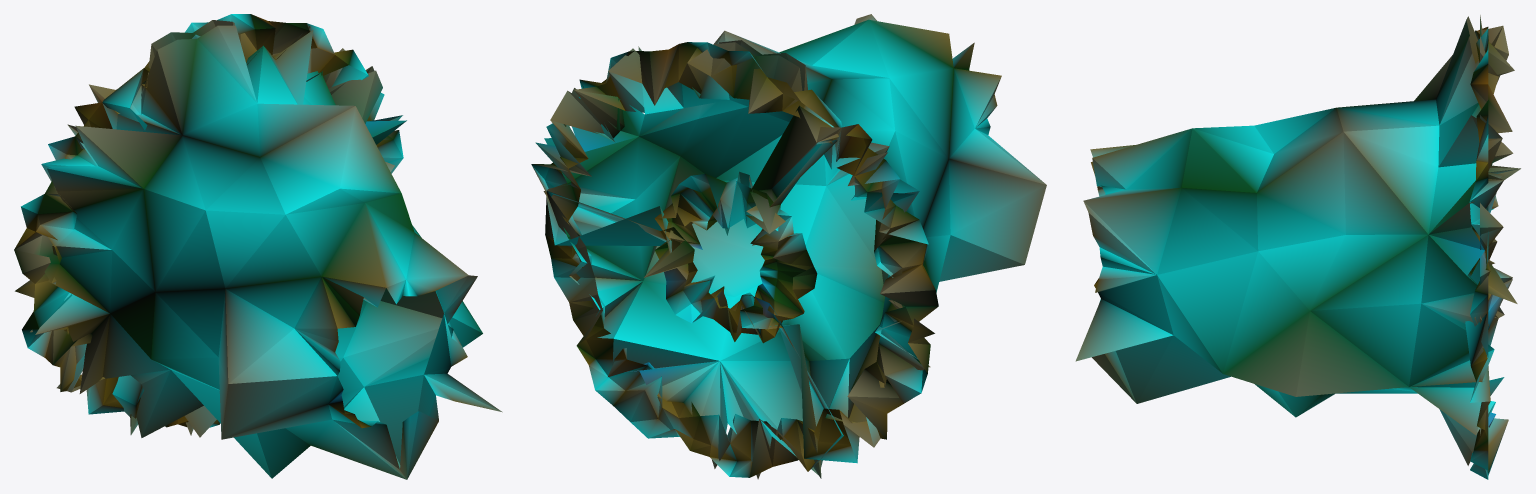
The model's file is lamp_shade_2_final400.obj.
The picture shows the model from 3 angles, left to right: view 1: azimuth 30°, elevation 25°; view 2: azimuth 150°, elevation 25°; view 3: azimuth 270°, elevation 25°; orthographic projection. The views are drawn at different scales.
Bounding box in the file's own units: 1.24 × 1.27 × 1.21.
